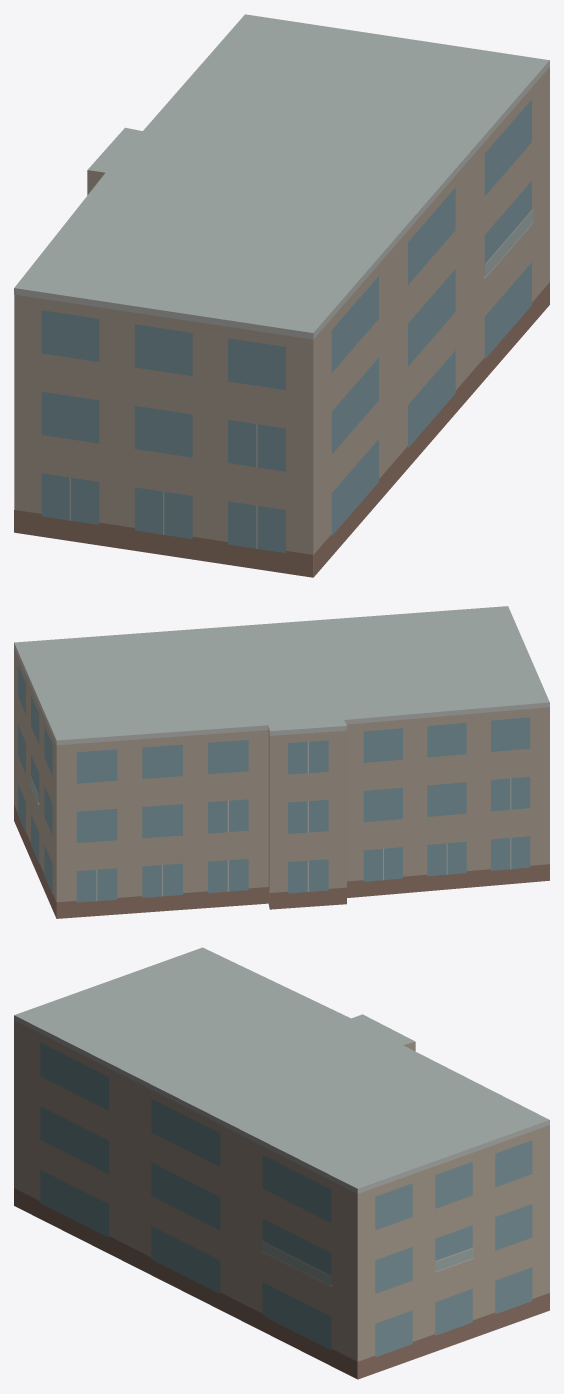
Rendered from survey-upis-32866315.glb.
3 renders of one model, top to bottom at view 1: azimuth 30°, elevation 25°; view 2: azimuth 150°, elevation 25°; view 3: azimuth 270°, elevation 25°, orthographic. The views are drawn at different scales.
Visible parts, largest first — view 1: survey-upis-32866315.tmp; view 2: survey-upis-32866315.tmp; view 3: survey-upis-32866315.tmp.
Part boxes in pixels (box(x1,y1,x2,y2)): survey-upis-32866315.tmp: box(14, 14, 549, 577); survey-upis-32866315.tmp: box(14, 606, 549, 918); survey-upis-32866315.tmp: box(14, 947, 549, 1379).
Size of the model in its own units: 24.88 by 9.15 by 23.32.
